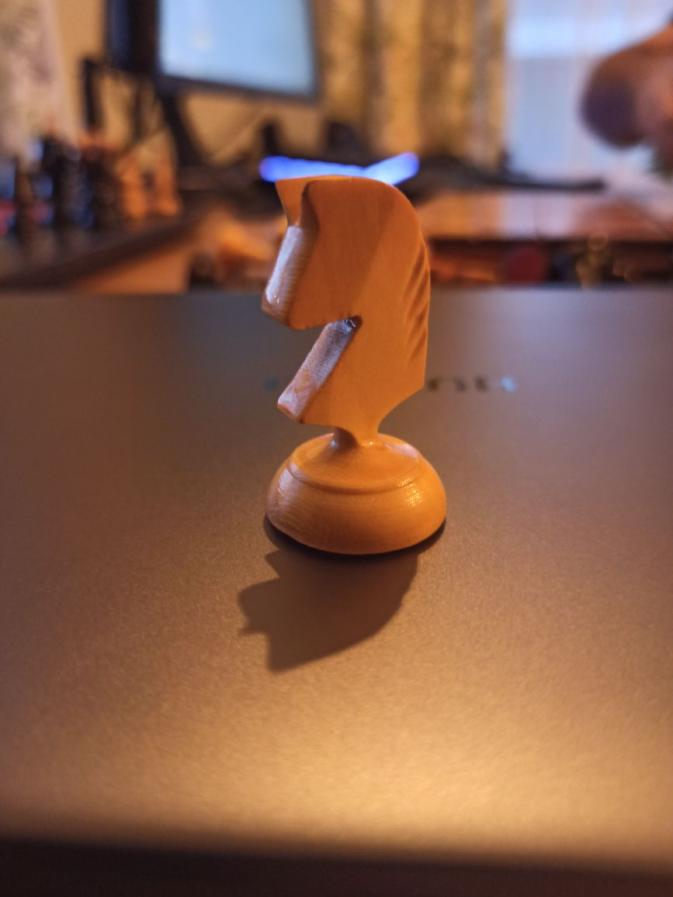wknight: (259, 175, 450, 558)
